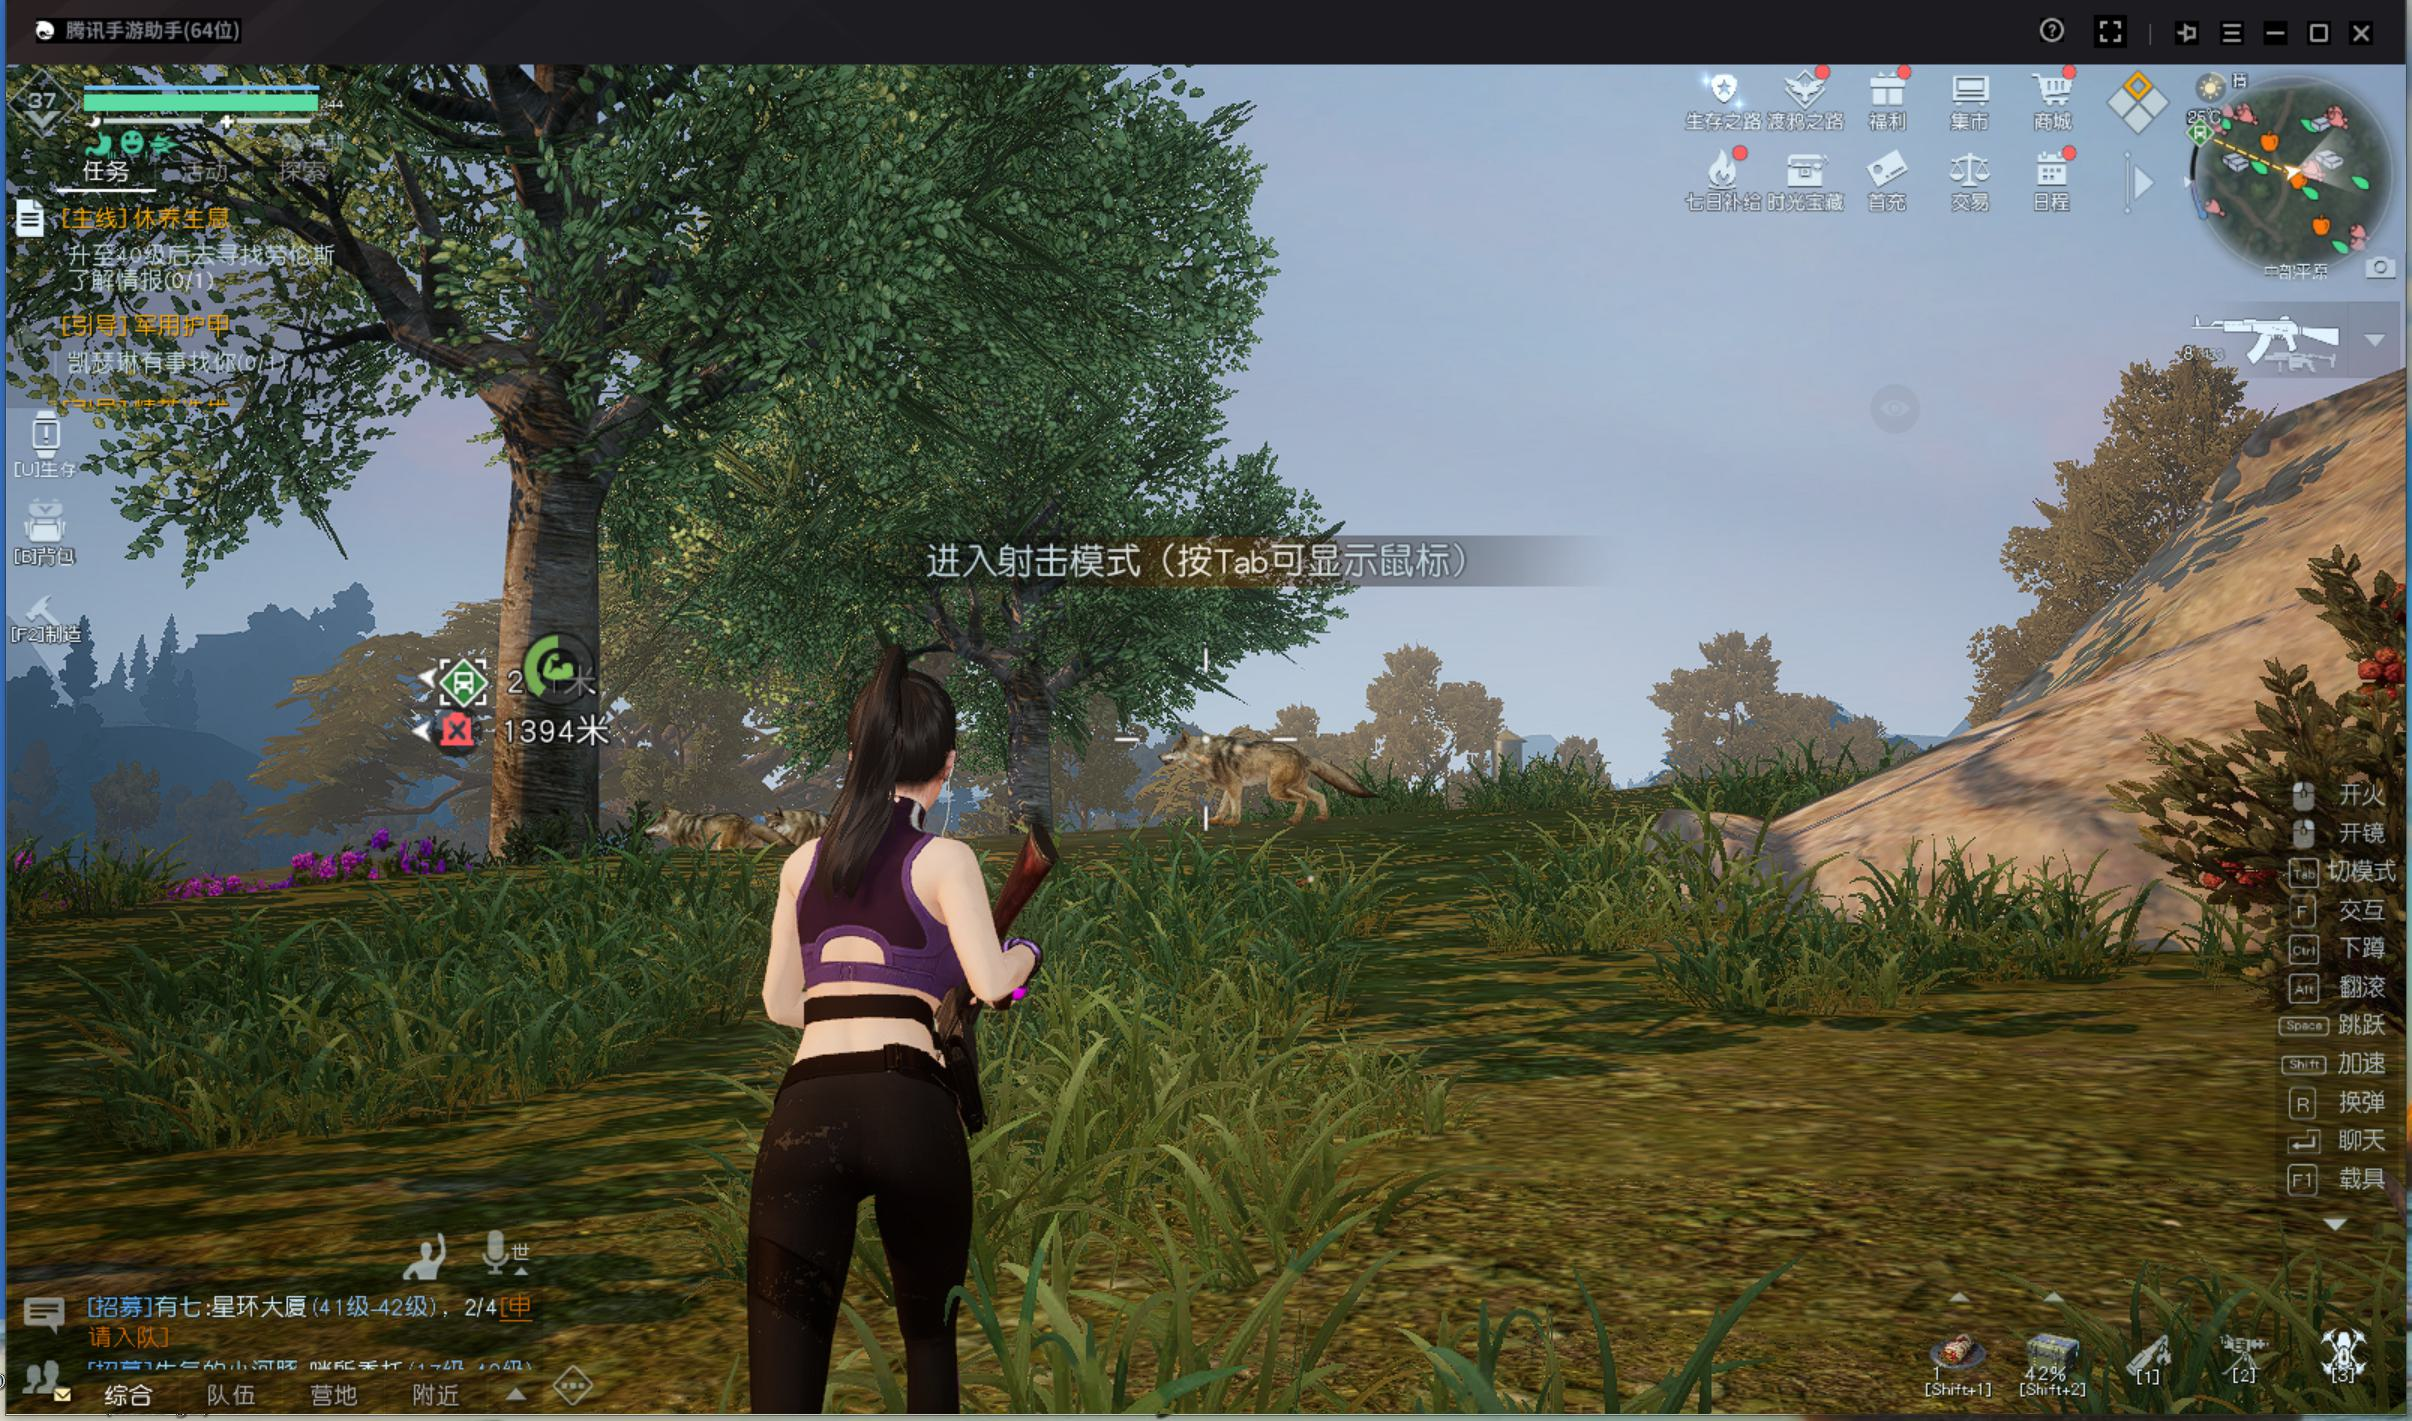tree: (485, 455, 609, 898), (1005, 699, 1066, 837)
